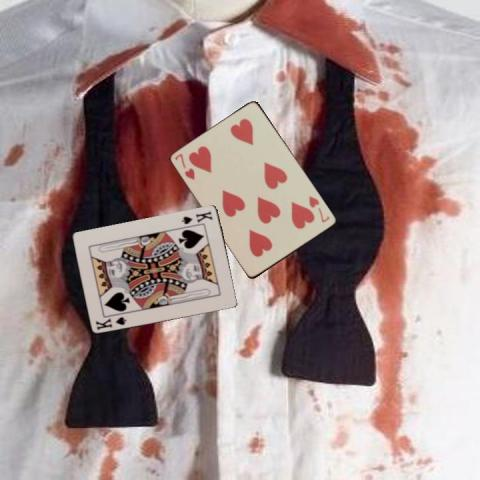7h: (306, 193, 331, 224), (172, 151, 197, 181)
Ks: (93, 314, 127, 331), (179, 209, 213, 226)
